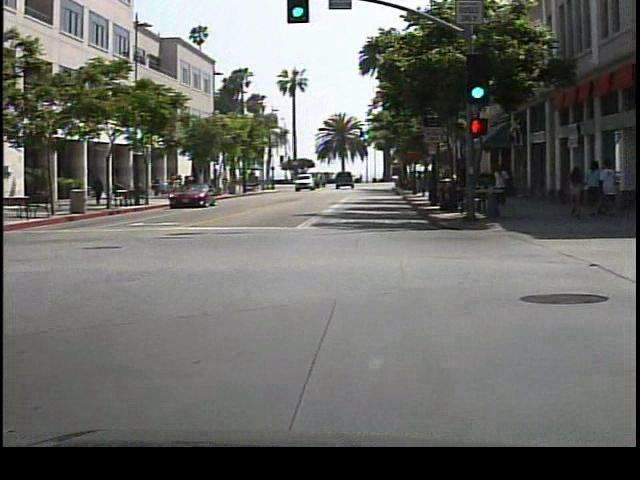person: (492, 159, 516, 212), (92, 172, 109, 205)
